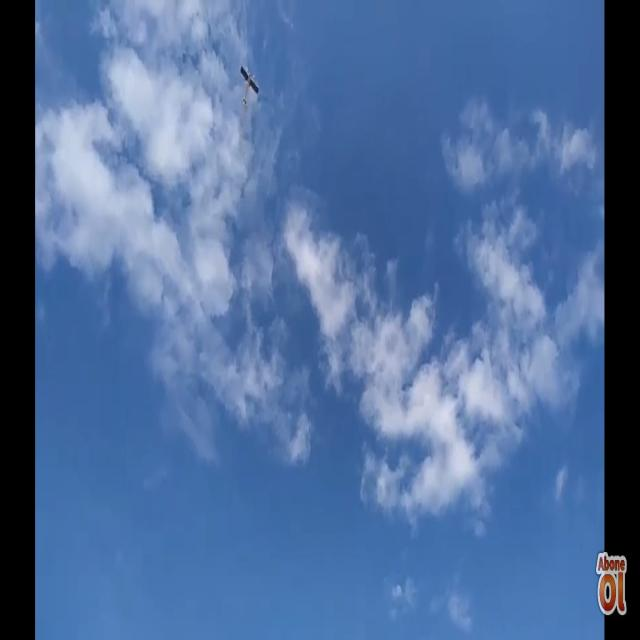iha: (240, 0, 259, 43)
